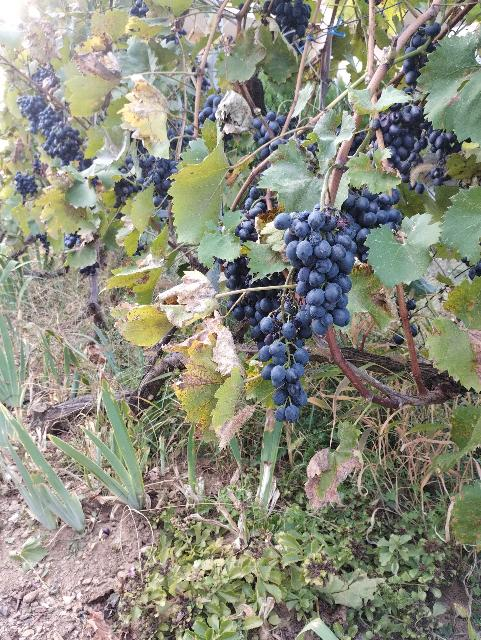grapes: (274, 209, 361, 335), (254, 310, 330, 422)
